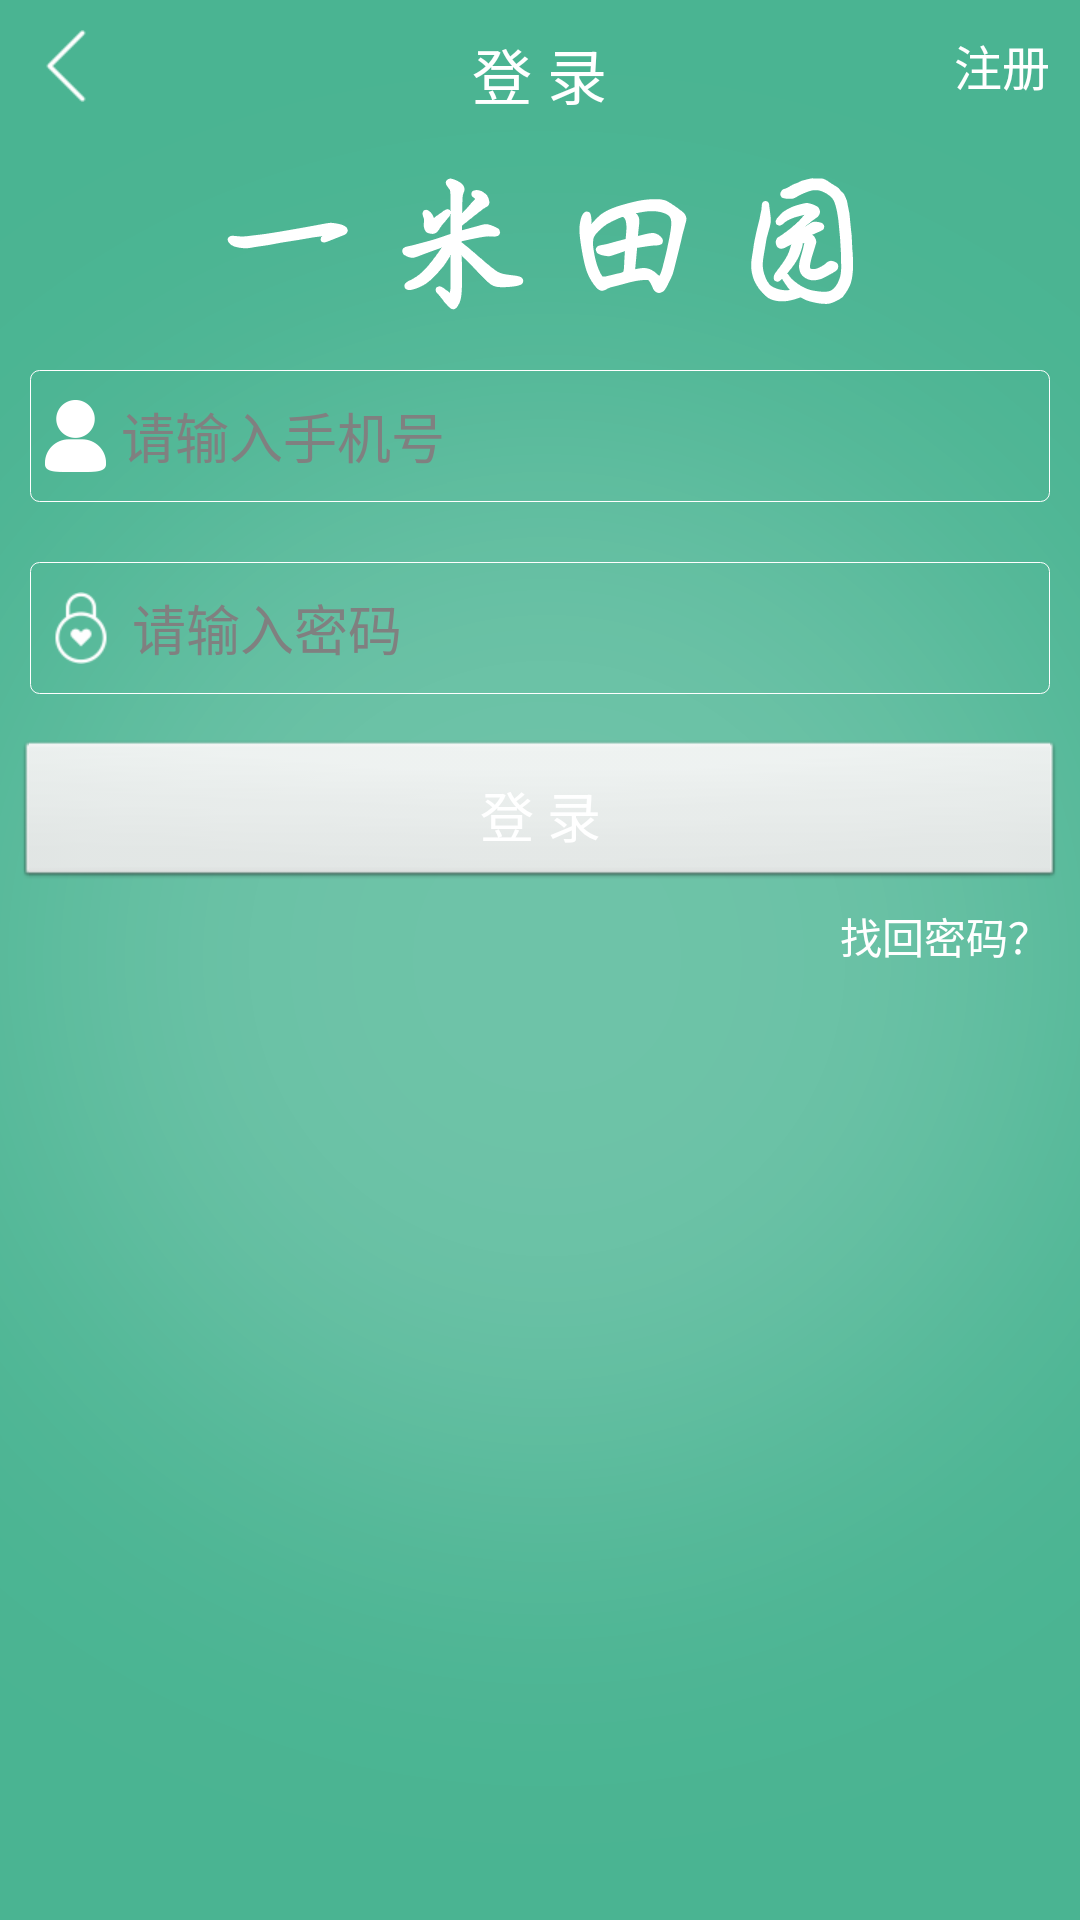

Named icons in this screenshot (1080 x 1920) and their centers, point (x, y):
password: point (81, 628)
titlebar back: point (66, 66)
user: point (75, 436)
